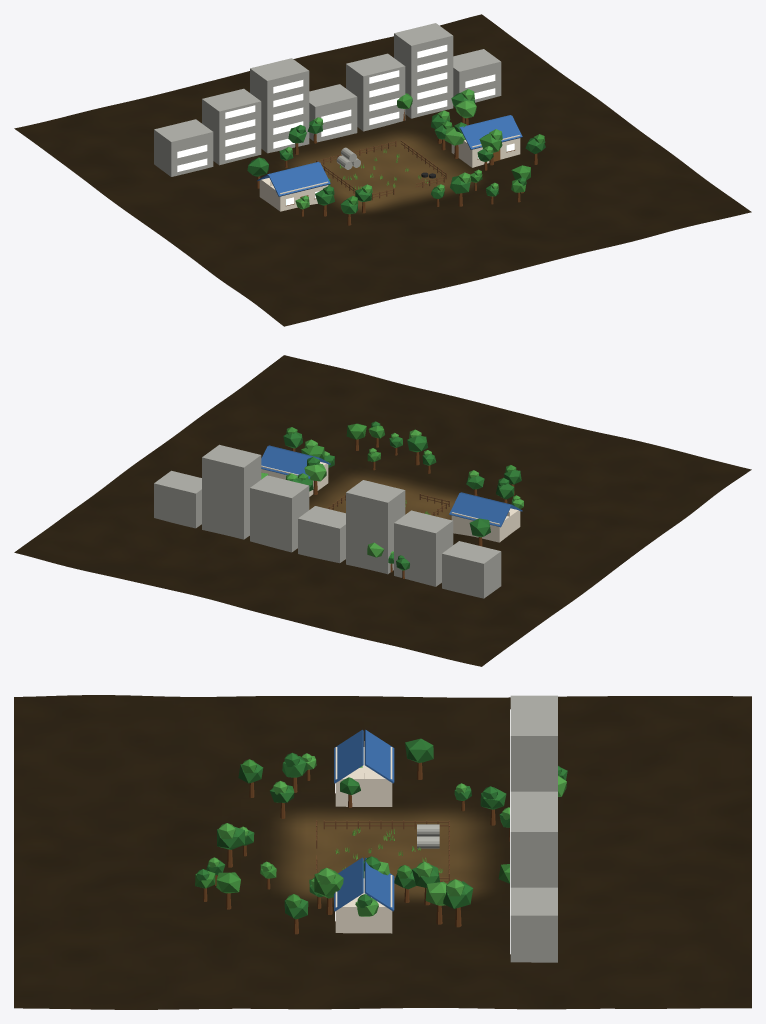
File: akichi.glb
3 renders of one model, top to bottom at view 1: azimuth 30°, elevation 25°; view 2: azimuth 150°, elevation 25°; view 3: azimuth 270°, elevation 25°, orthographic. The views are drawn at different scales.
Parts seen in each view (by area): view 1: terrain, concrete, window, leaf3, roofBlue, wallCream, leaf2, leaf1, woodDark, trunk; view 2: terrain, concrete, roofBlue, leaf3, wallCream, leaf2, leaf1; view 3: terrain, concrete, leaf3, roofBlue, wallCream, leaf2, leaf1, trunk, woodDark.
Boxes of the visible parts, left/top/right/bottom form: terrain: left=14, top=14, right=751, bottom=326; concrete: left=154, top=23, right=501, bottom=176; window: left=177, top=45, right=514, bottom=205; leaf3: left=247, top=92, right=545, bottom=214; roofBlue: left=257, top=115, right=522, bottom=196; wallCream: left=259, top=135, right=520, bottom=211; leaf2: left=285, top=89, right=502, bottom=209; leaf1: left=347, top=93, right=545, bottom=205; woodDark: left=286, top=140, right=514, bottom=206; trunk: left=256, top=109, right=537, bottom=225; terrain: left=14, top=355, right=751, bottom=666; concrete: left=154, top=444, right=501, bottom=598; roofBlue: left=261, top=445, right=522, bottom=527; leaf3: left=264, top=421, right=521, bottom=570; wallCream: left=261, top=462, right=520, bottom=542; leaf2: left=261, top=429, right=523, bottom=557; leaf1: left=286, top=423, right=516, bottom=479; terrain: left=14, top=695, right=751, bottom=1009; concrete: left=417, top=695, right=557, bottom=962; leaf3: left=197, top=738, right=567, bottom=919; roofBlue: left=334, top=729, right=394, bottom=911; wallCream: left=335, top=741, right=392, bottom=933; leaf2: left=208, top=753, right=566, bottom=916; leaf1: left=195, top=759, right=509, bottom=908; trunk: left=203, top=762, right=509, bottom=934; woodDark: left=316, top=793, right=449, bottom=921.
Size of the model in its own units: 78 by 12.01 by 78.
